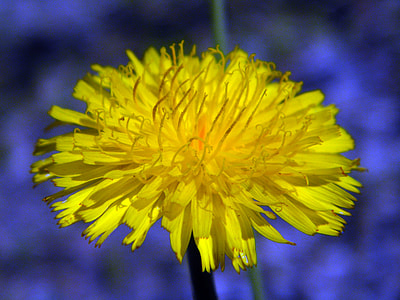dandelion: (28, 50, 372, 273)
